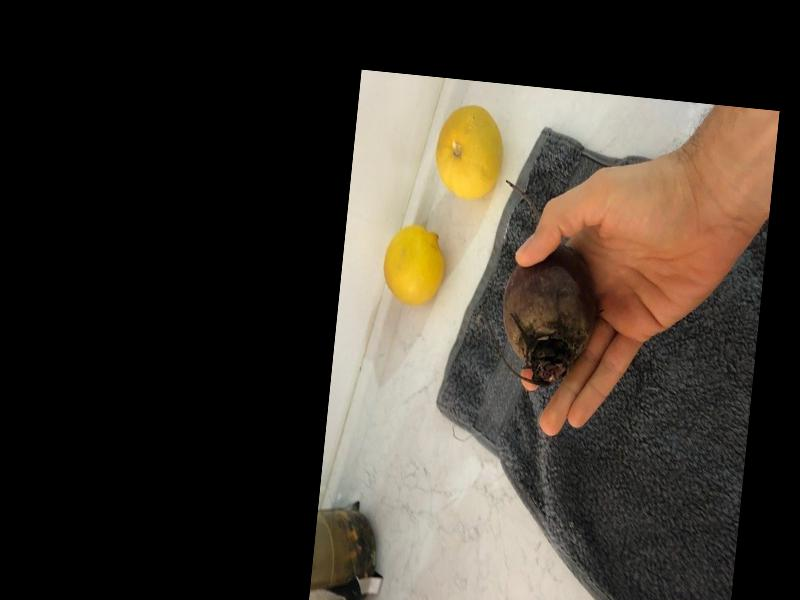Beet: (486, 179, 609, 389)
